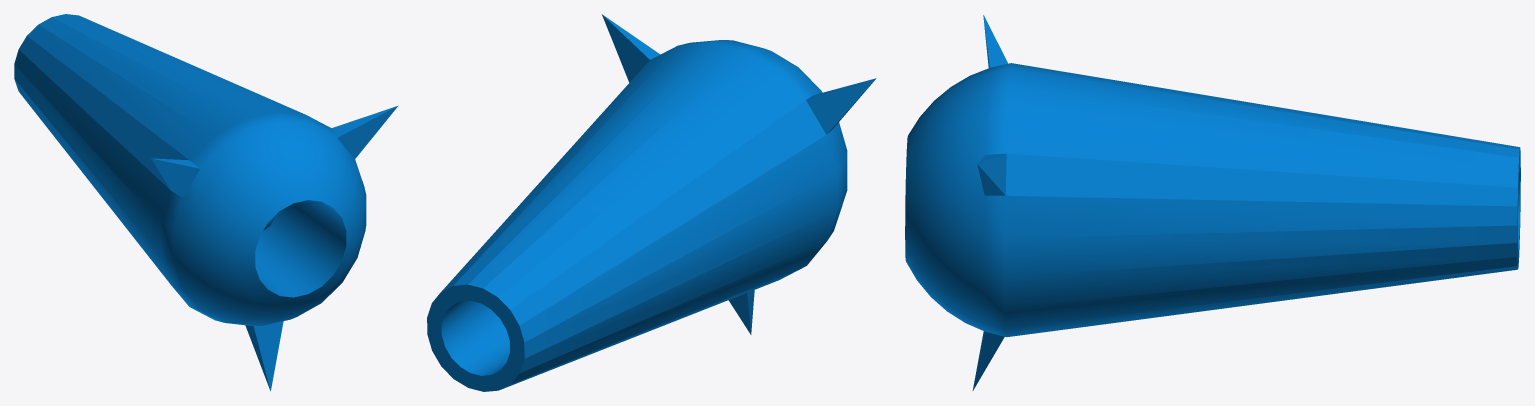
File: SM_Orb_Rifle.fbx
3 views of the same model, side by side, from view 1: azimuth 30°, elevation 25°; view 2: azimuth 150°, elevation 25°; view 3: azimuth 270°, elevation 25° (orthographic). The views are drawn at different scales.
Visible parts, largest first — view 1: pSphere10; view 2: pSphere10; view 3: pSphere10.
Part boxes in pixels (<box>): pSphere10: <box>14,14,398,391</box>; pSphere10: <box>427,14,876,391</box>; pSphere10: <box>905,15,1520,390</box>.
Bounding box in the file's own units: 3.16 × 3.26 × 5.73.
